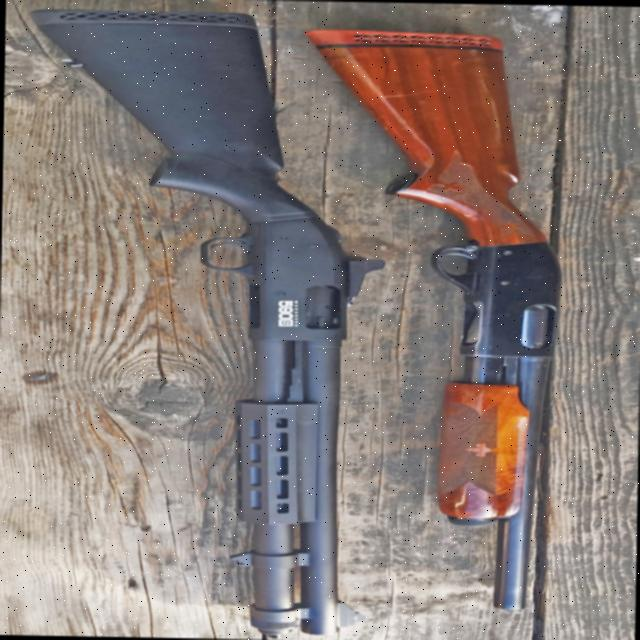Shotgun: (58, 8, 368, 620), (328, 23, 573, 640)
